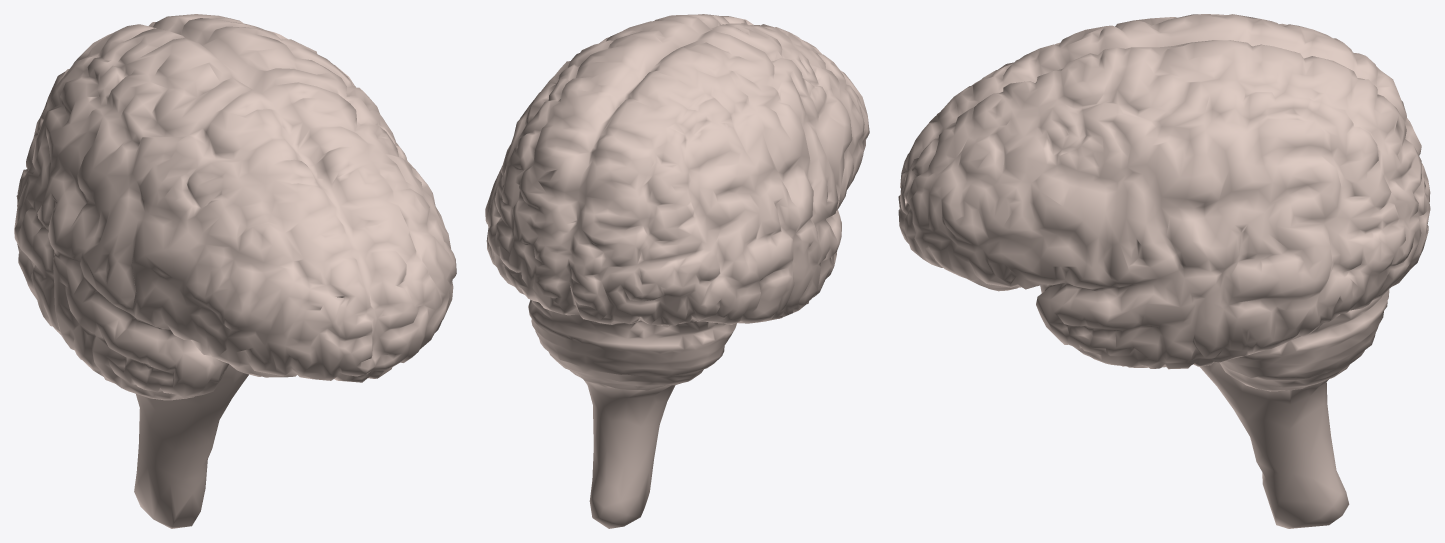
The model's file is brain.obj.
3 renders of one model, left to right at view 1: azimuth 30°, elevation 25°; view 2: azimuth 150°, elevation 25°; view 3: azimuth 270°, elevation 25°, orthographic. The views are drawn at different scales.
Parts seen in each view (by area): view 1: Icosphere_Icosphere.001; view 2: Icosphere_Icosphere.001; view 3: Icosphere_Icosphere.001.
Boxes of the visible parts, x1,y1,x2,y2 form: Icosphere_Icosphere.001: (14,14,456,528); Icosphere_Icosphere.001: (485,14,869,528); Icosphere_Icosphere.001: (898,14,1430,528).
Bounding box in the file's own units: 2.36 × 3.53 × 3.44.
